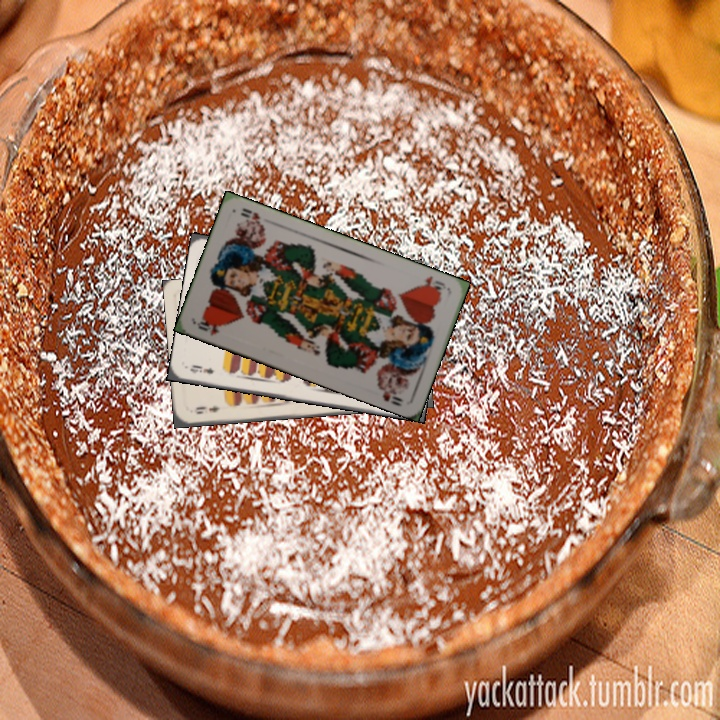E9: (186, 361, 216, 377), (192, 402, 223, 417)
HO: (413, 272, 449, 296), (192, 315, 224, 338)
